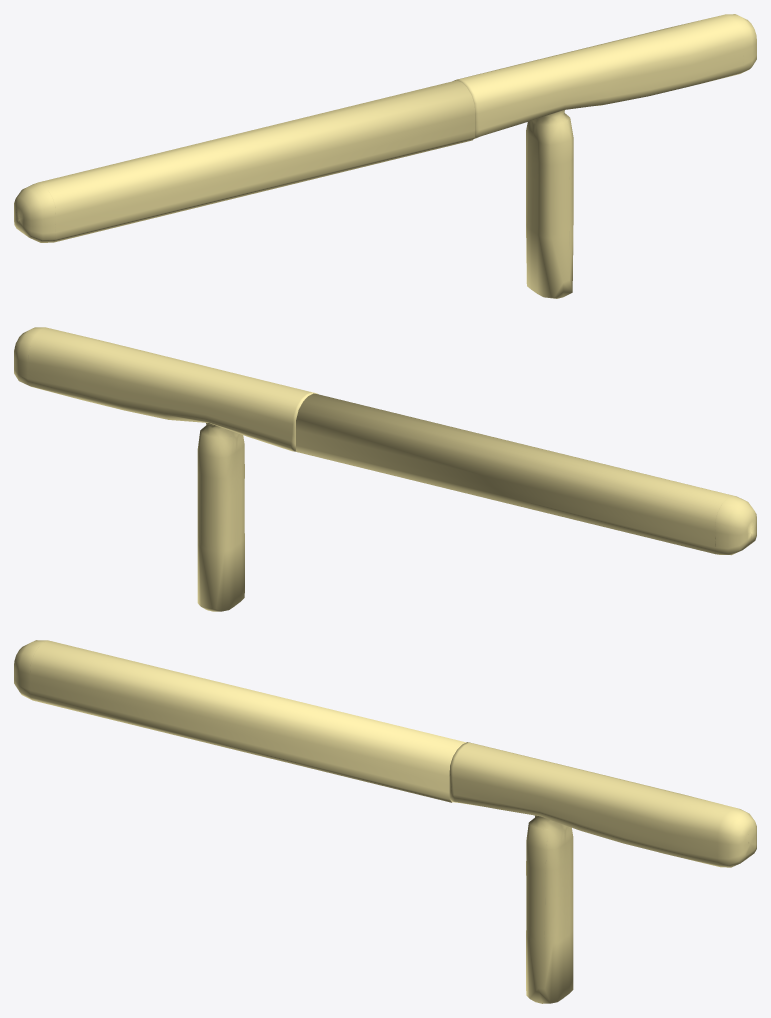
Rendered from Katana36.glb.
3 views of the same model, one above another, from view 1: azimuth 30°, elevation 25°; view 2: azimuth 150°, elevation 25°; view 3: azimuth 330°, elevation 25° (orthographic).
Parts seen in each view (by area): view 1: Retopo_Cube.001, Retopo_Cube.003; view 2: Retopo_Cube.001, Retopo_Cube.003; view 3: Retopo_Cube.001, Retopo_Cube.003.
Part boxes in pixels (x1,y1,x2,y2): Retopo_Cube.001: [14, 80, 475, 242]; Retopo_Cube.003: [454, 14, 756, 298]; Retopo_Cube.001: [296, 393, 756, 555]; Retopo_Cube.003: [14, 327, 317, 611]; Retopo_Cube.001: [14, 640, 466, 802]; Retopo_Cube.003: [449, 742, 756, 1003].
Size of the model in its own units: 0.7775 by 0.2333 by 0.0474.
2 materials, 2 textured.
